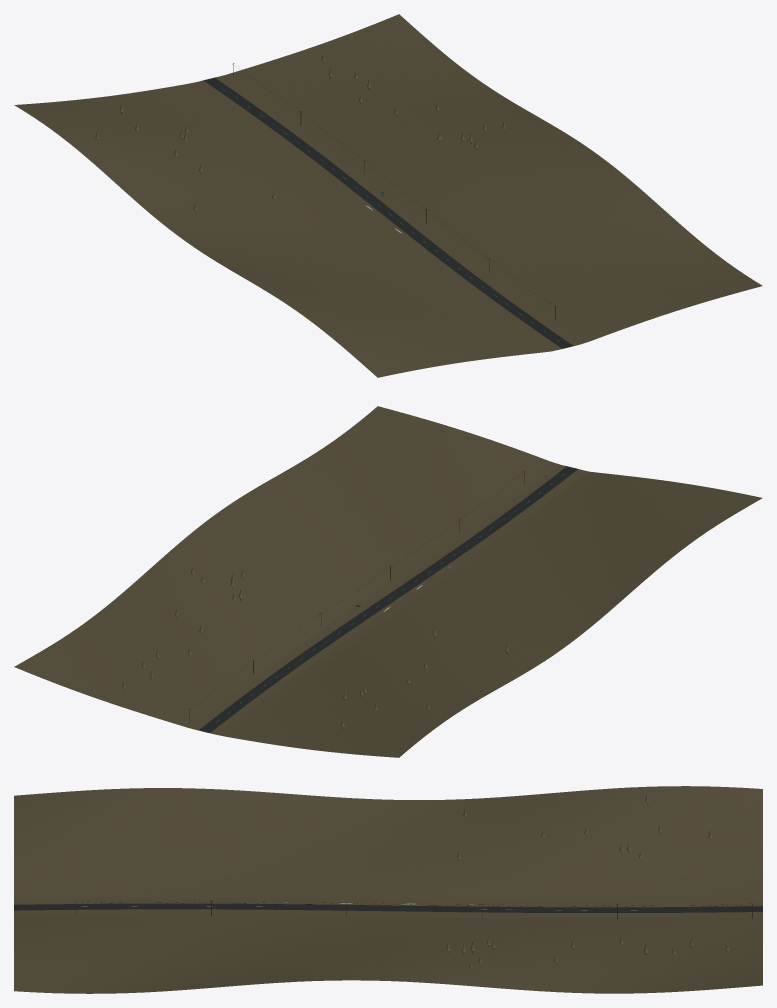
The model's file is border-road.glb.
3 renders of one model, top to bottom at view 1: azimuth 30°, elevation 25°; view 2: azimuth 150°, elevation 25°; view 3: azimuth 270°, elevation 25°, orthographic. The views are drawn at different scales.
Visible parts, largest first — view 1: Ground.3.005, Ground.3.007, Ground.3.004, Ground.2.005, Ground.0.006, Ground.2.004, Ground.3.006, Ground.2.006, Ground.2.007, Ground.0.004, Ground.1.006, Ground.0.007 (+7 smaller); view 2: Ground.3.006, Ground.3.004, Ground.3.005, Ground.3.007, Ground.2.004, Ground.2.005, Ground.2.006, Ground.0.005, Ground.2.007, Ground.0.007, Ground.1.007, Ground.0.004 (+7 smaller); view 3: Ground.0.007, Ground.0.004, Ground.0.005, Ground.1.007, Ground.1.006, Ground.0.006, Ground.1.004, Ground.1.005, Ground.3.004, Ground.3.007, Ground.3.006, Ground.2.004 (+7 smaller).
Part boxes in pixels (x1,y1,x2,y2): Ground.3.005: (485, 143, 671, 250); Ground.3.007: (303, 14, 489, 115); Ground.3.004: (576, 217, 762, 313); Ground.2.005: (397, 179, 575, 278); Ground.0.006: (105, 158, 291, 248); Ground.2.004: (484, 251, 666, 346); Ground.3.006: (394, 88, 580, 179); Ground.2.006: (310, 115, 484, 211); Ground.2.007: (217, 50, 393, 143); Ground.0.004: (287, 296, 473, 377); Ground.1.006: (201, 147, 379, 231); Ground.0.007: (14, 96, 200, 173); Ground.3.006: (105, 529, 291, 634); Ground.3.004: (287, 406, 473, 504); Ground.3.005: (196, 470, 382, 565); Ground.3.007: (14, 607, 200, 702); Ground.2.004: (383, 434, 563, 532); Ground.2.005: (292, 504, 474, 597); Ground.2.006: (201, 566, 379, 662); Ground.0.005: (485, 549, 671, 634); Ground.2.007: (110, 635, 284, 732); Ground.0.007: (303, 678, 489, 757); Ground.1.007: (209, 667, 393, 748); Ground.0.004: (576, 481, 762, 557); Ground.0.007: (575, 786, 762, 852); Ground.0.004: (14, 788, 201, 852); Ground.0.005: (201, 788, 388, 854); Ground.1.007: (575, 848, 762, 906); Ground.1.006: (388, 848, 575, 905); Ground.0.006: (388, 791, 575, 854); Ground.1.004: (14, 850, 201, 903); Ground.1.005: (201, 852, 388, 904); Ground.3.004: (14, 947, 201, 993); Ground.3.007: (575, 949, 762, 993); Ground.3.006: (388, 945, 575, 992); Ground.2.004: (14, 910, 201, 951).
Size of the model in its own units: 220 by 16.59 by 360.
10 materials, 10 textured.
